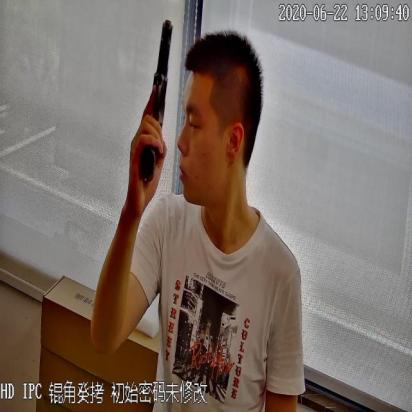Gun: (129, 14, 174, 193)
